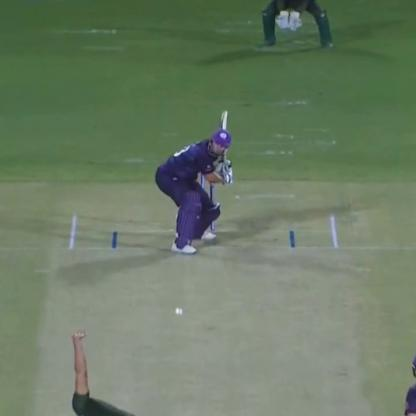ball: (171, 302, 188, 317)
bat: (215, 105, 232, 146)
pitch: (25, 219, 390, 415)
